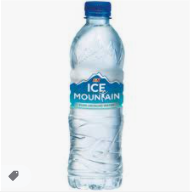Bottle: (70, 1, 120, 189)
